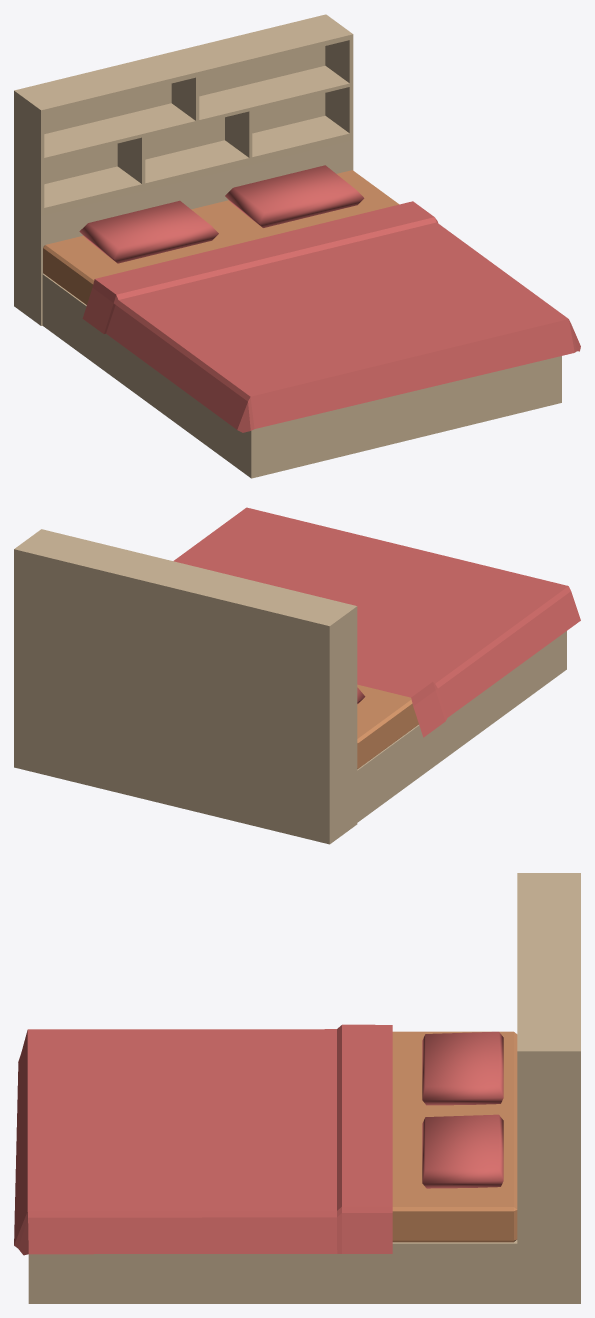
The model's file is LitDouble1.fbx.
3 renders of one model, top to bottom at view 1: azimuth 30°, elevation 25°; view 2: azimuth 150°, elevation 25°; view 3: azimuth 270°, elevation 25°, orthographic. The views are drawn at different scales.
Parts seen in each view (by area): view 1: LitEtagere; view 2: LitEtagere; view 3: LitEtagere.
Boxes of the visible parts, x1,y1,x2,y2 form: LitEtagere: (14, 14, 580, 478); LitEtagere: (14, 507, 580, 844); LitEtagere: (14, 873, 580, 1303).
Size of the model in its own units: 500 by 300 by 610.
